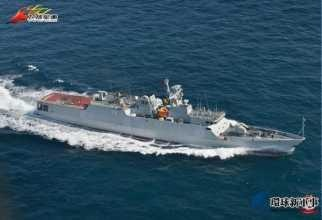warship: (34, 73, 307, 156)
